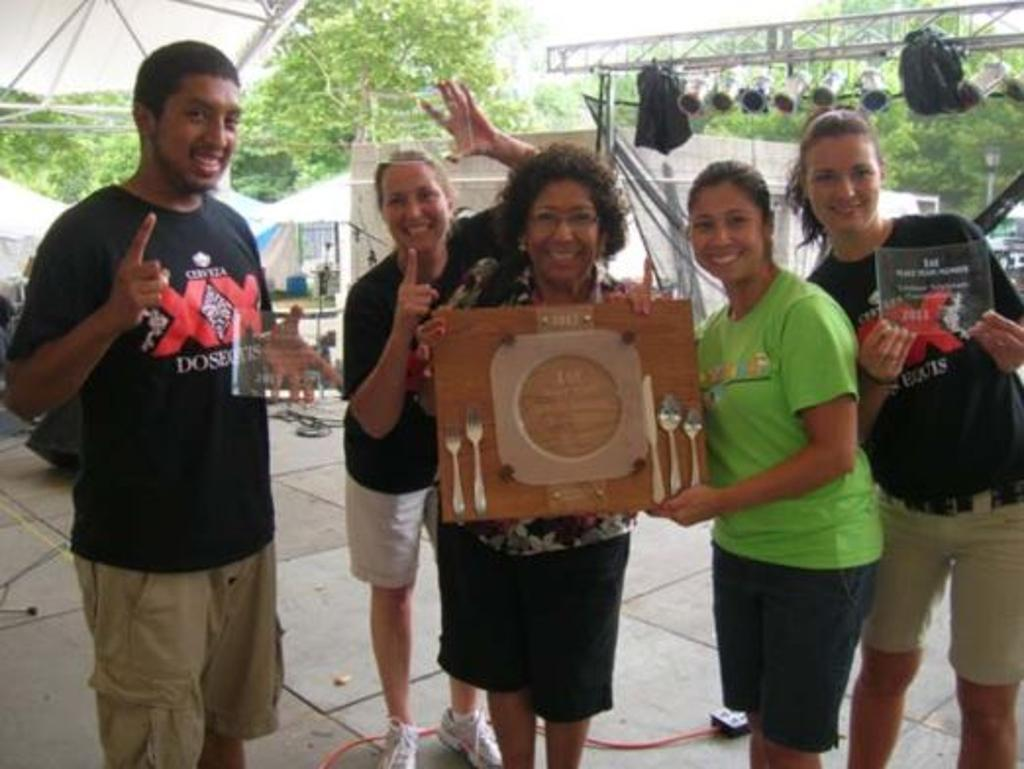face: (154, 48, 240, 188), (526, 174, 598, 286), (802, 132, 880, 232), (690, 184, 760, 290), (382, 156, 448, 256)
